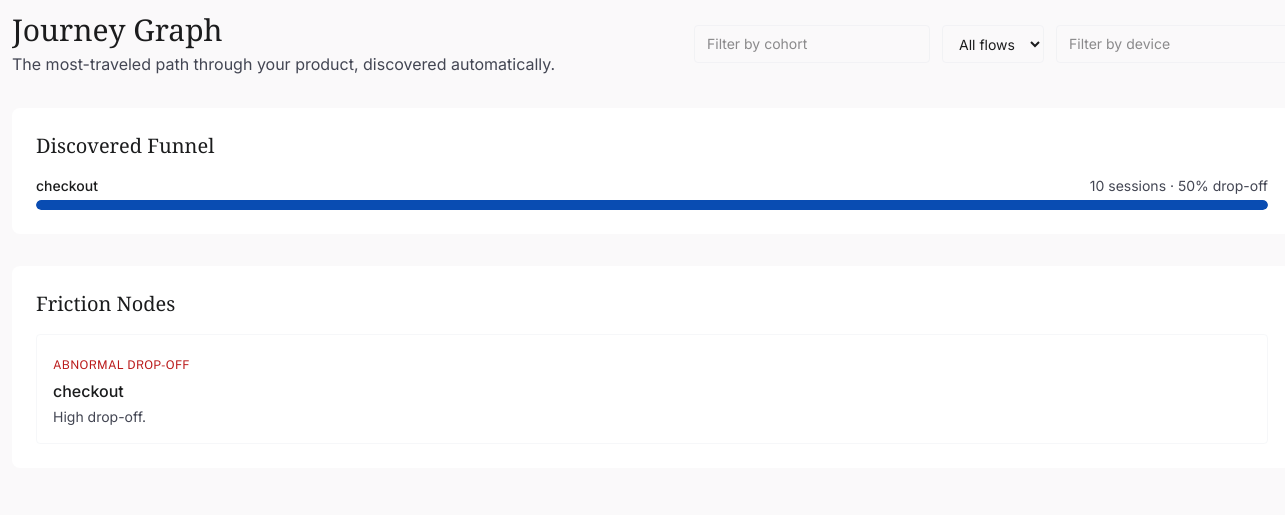
Test: JourneyGraphPage › exports the open node to Slack and shows a success message
Click the button "Abnormal drop-off checkout High drop-off." at point(121, 365), box [36,334,1268,444]
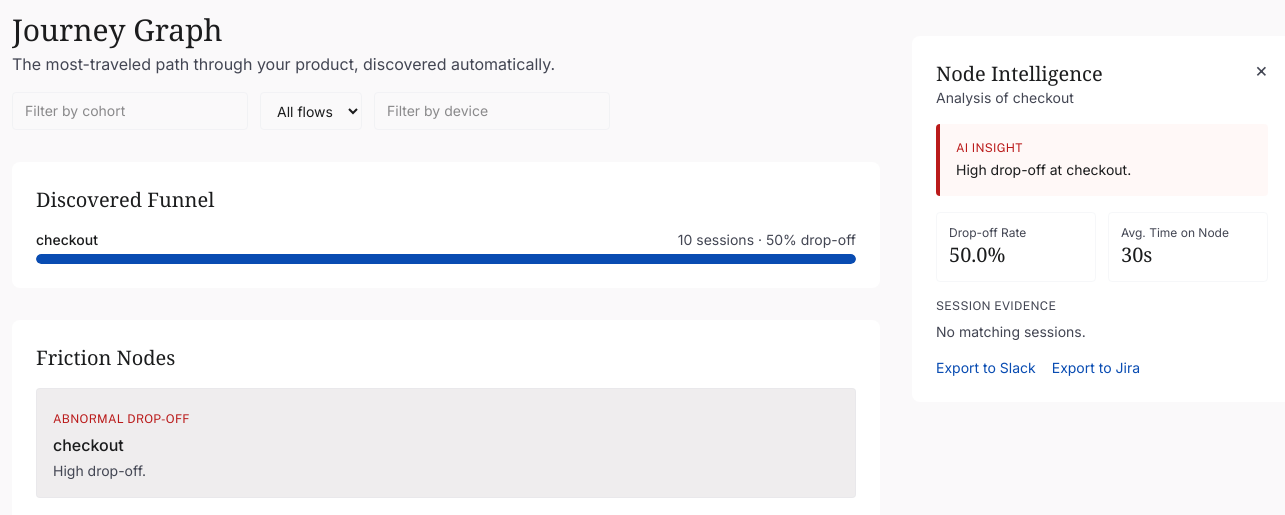
Now the text "High drop-off at checkout." is shown, box [956,161,1131,178]
Click the button "Export to Slack" at point(986, 368), box [936,358,1036,378]
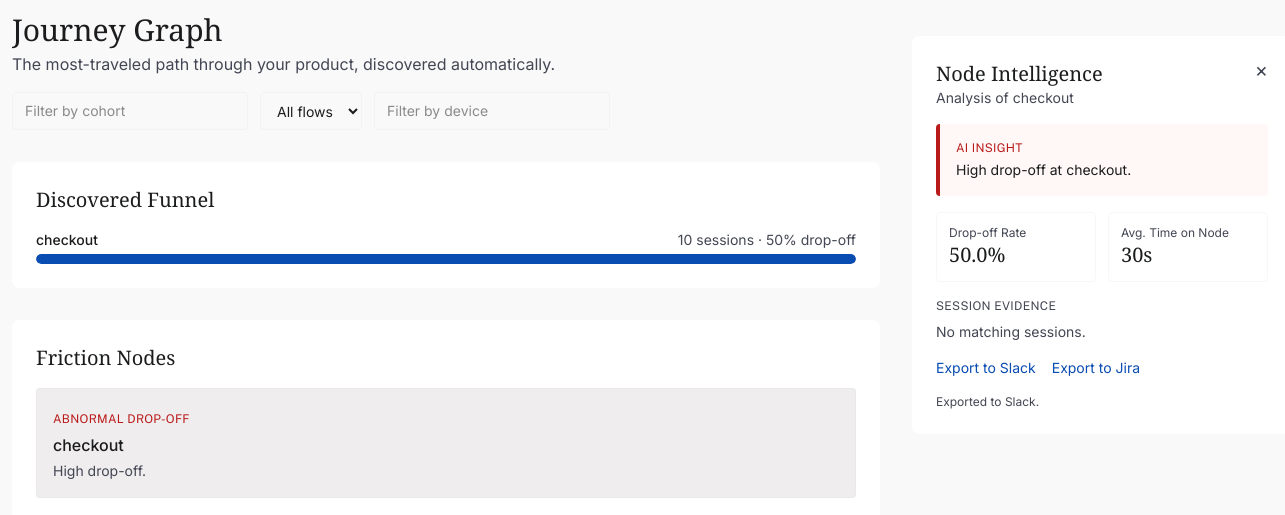
Now the text "Exported to Slack." is shown, box [936,394,1039,409]
